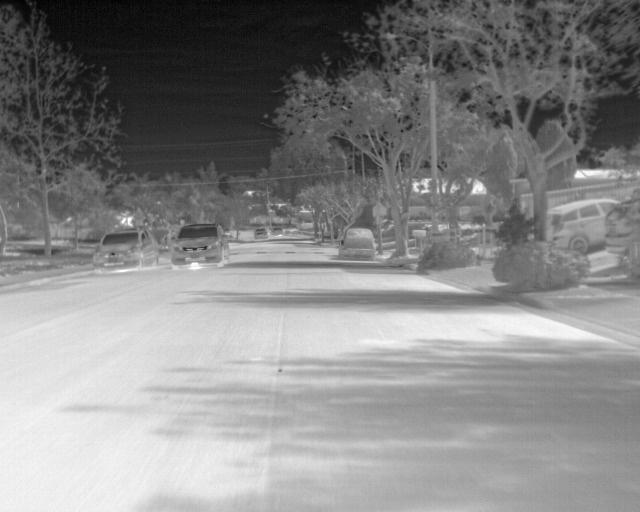car: (90, 225, 158, 272), (546, 197, 603, 253), (169, 222, 231, 268), (604, 197, 639, 255), (338, 226, 377, 261), (253, 227, 268, 240), (270, 226, 283, 239)
